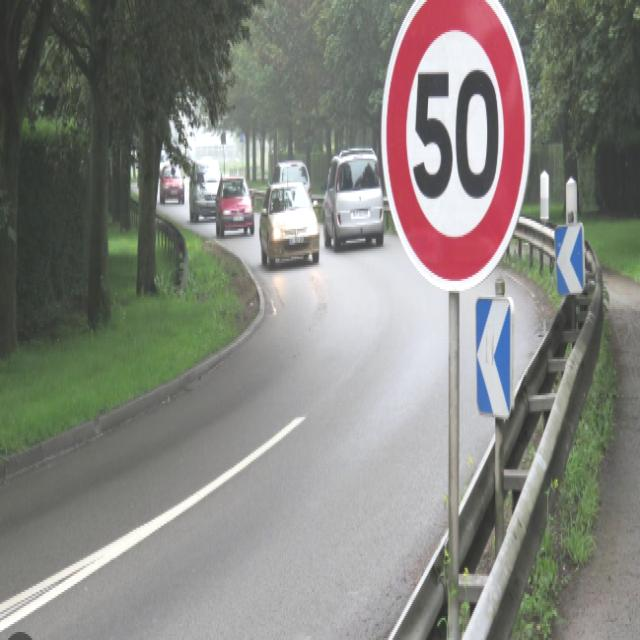speed_50: (379, 0, 534, 296)
